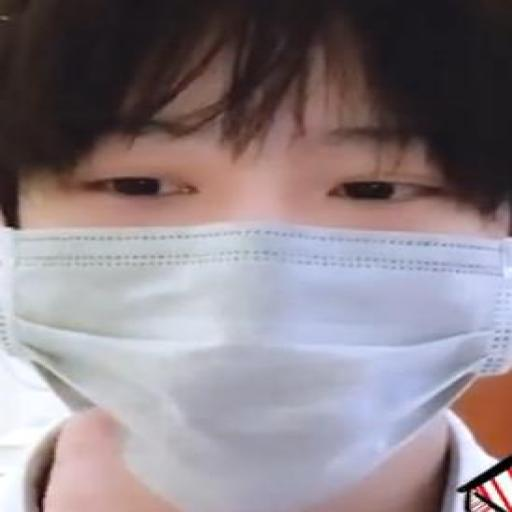mask: (2, 45, 512, 512)
